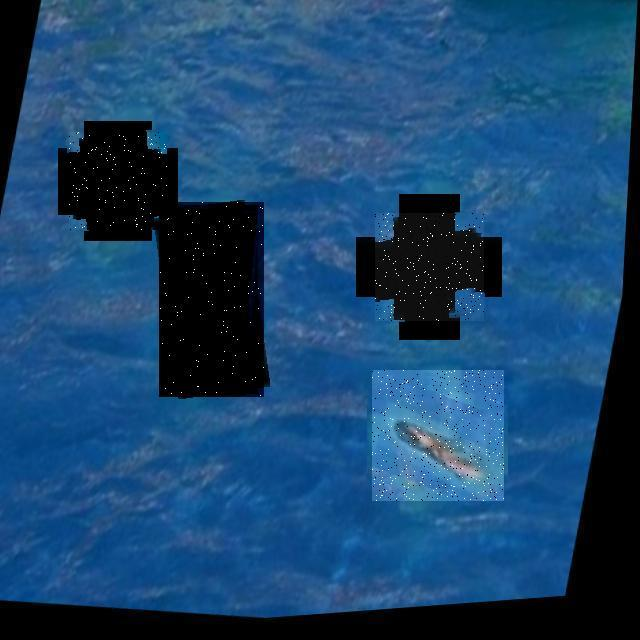swimming: (159, 202, 264, 397), (372, 370, 504, 501), (375, 213, 484, 321), (69, 132, 167, 230)
